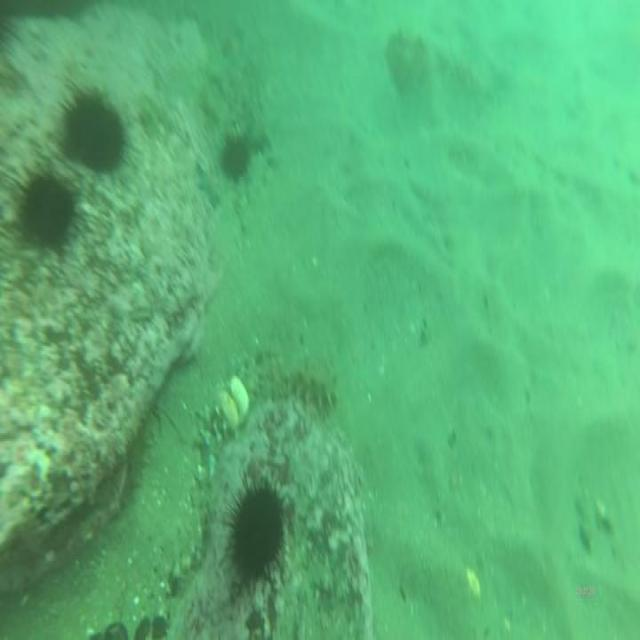echinus: (228, 476, 286, 596), (59, 87, 125, 182), (14, 169, 75, 259), (216, 128, 256, 188)
holothurian: (279, 352, 342, 418)
